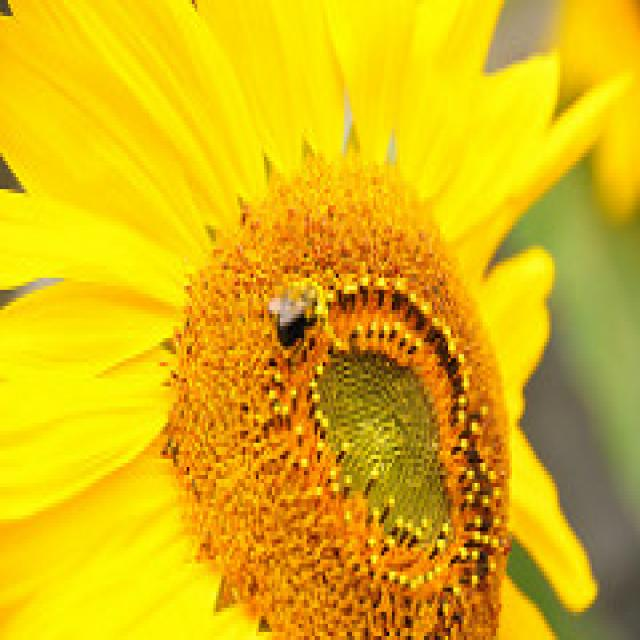sunflower: (5, 12, 640, 636)
